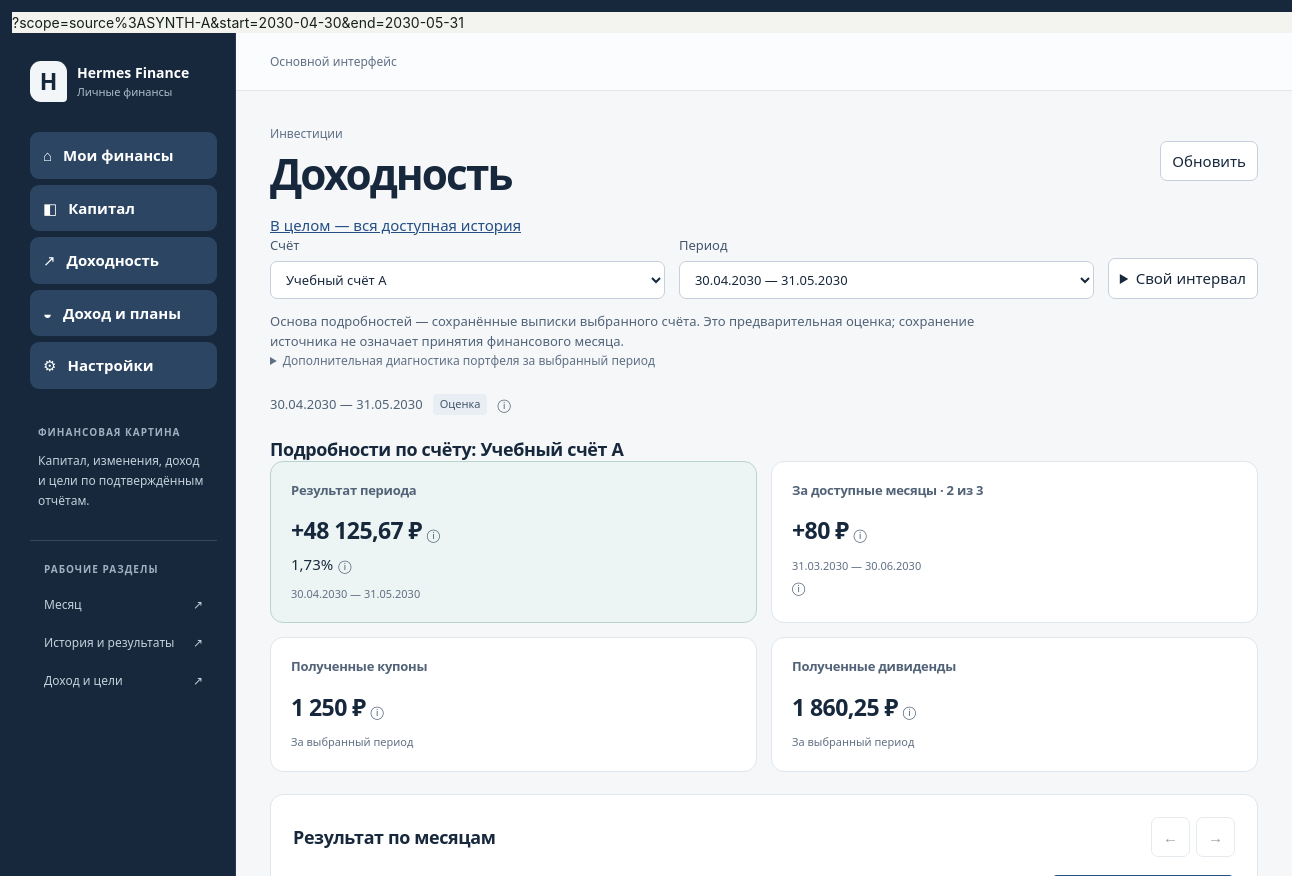
Test: partial history shows server RUB subtotal with coverage and no invented rate
Check: the element "За доступные месяцы" shows "За доступные месяцы · 2 из 3", box [771,461,1258,623]
Check: the element "За доступные месяцы" shows "+80 ₽", box [792,514,848,546]
What coordinates should you click on to do the following:
click the heading named "Подробнее: Покрытие доступных месяцев"
I would click on:
 (799, 586)
Its box is [792,578,805,596].
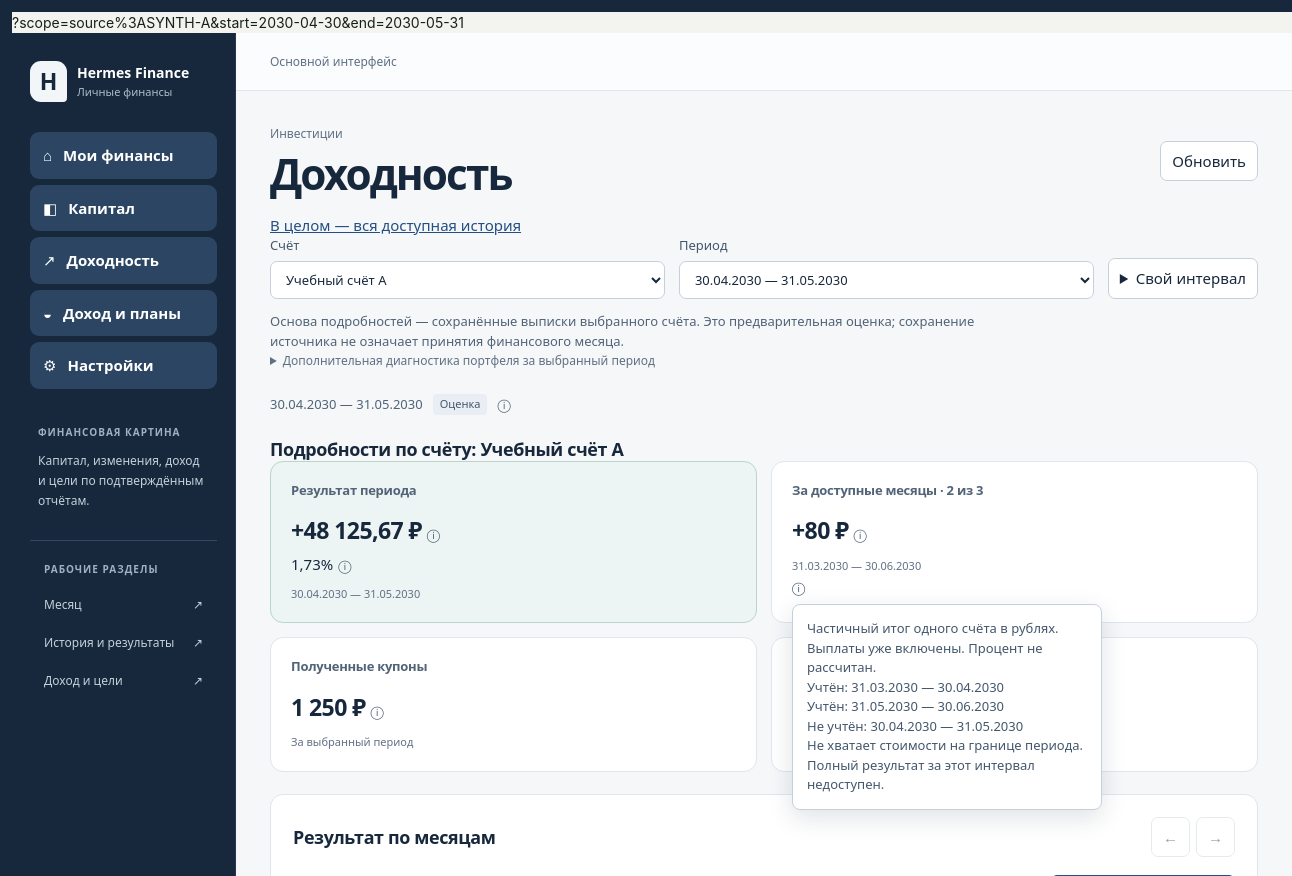
Check: the text "Не хватает стоимости на границе периода." is shown, box [807,736,1087,755]
Check: the text "Не учтён: 30.04.2030 — 31.05.2030" is shown, box [807,716,1023,734]
